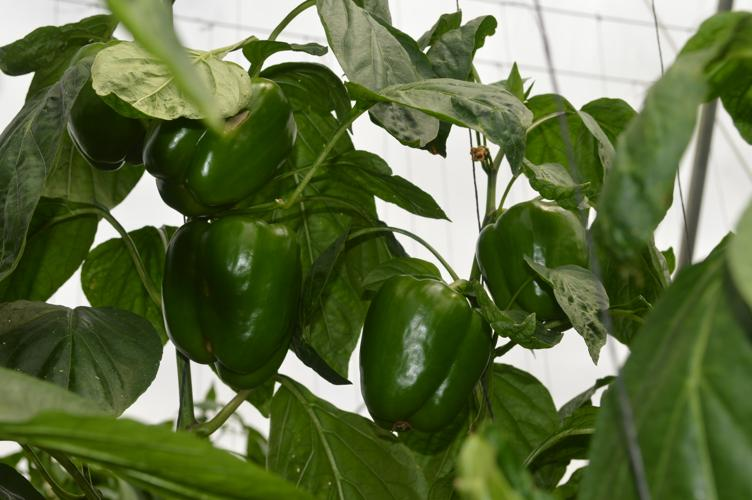BellPepper: (160, 219, 303, 391), (145, 76, 297, 217), (360, 276, 487, 433), (475, 204, 588, 326), (62, 91, 138, 171)
